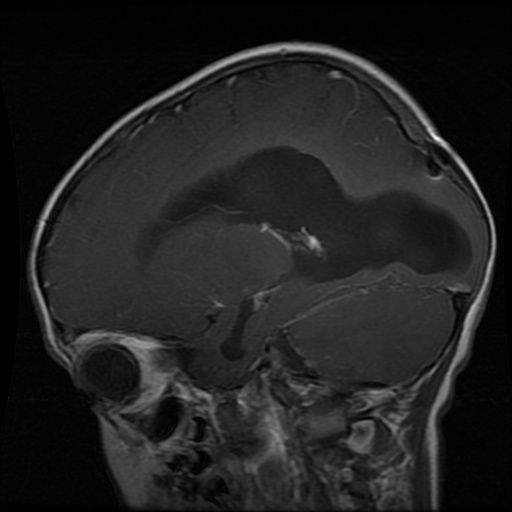glioma: (136, 143, 470, 359)
